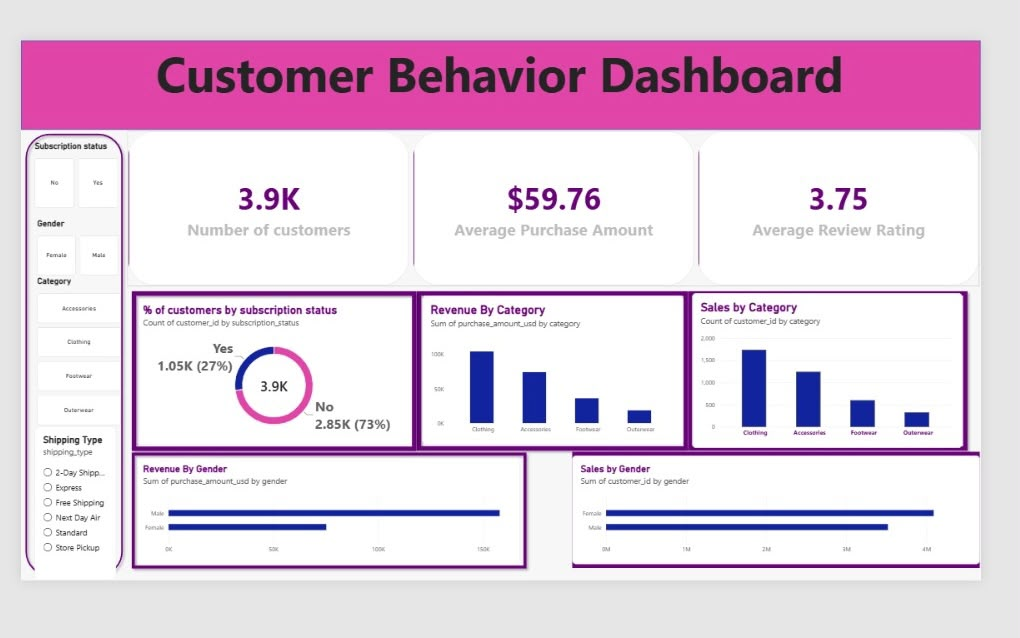

Layout of this report page (visuals, bound fields, positions):
{"tool":"powerbi","page":{"name":"Page 1","canvas":[1920,1080],"ordinal":0},"visuals":[{"type":"cardVisual","fields":{"Data":["retail_consumer_analytics shopping_data.Number of customers","retail_consumer_analytics shopping_data.Average Purchase Amount","retail_consumer_analytics shopping_data.Average Review Rating"]},"box":[212.6,179.5,1706.5,311.8],"z":0},{"type":"shape","box":[0,0,1919.1,178.6],"z":1000},{"type":"textbox","box":[1706,179,213,312],"z":2000},{"type":"textbox","box":[0,501.7,1374.8,14.2],"z":4000},{"type":"textbox","box":[269.3,0,1457,215.4],"z":5000},{"type":"donutChart","title":"% of customers by subscription status","fields":{"Category":["retail_consumer_analytics shopping_data.subscription_status"],"Y":["Count(retail_consumer_analytics shopping_data.customer_id)"]},"box":[227.5,510,557.5,297.5],"z":5002},{"type":"shape","box":[781.4,491.5,560.5,336.9],"z":5003},{"type":"shape","box":[212.5,492.5,587.5,337.5],"z":5004},{"type":"clusteredColumnChart","title":"Revenue By Category","fields":{"Category":["retail_consumer_analytics shopping_data.category"],"Y":["Sum(retail_consumer_analytics shopping_data.purchase_amount_usd)"]},"box":[802.5,510,522.5,297.5],"z":5005},{"type":"shape","box":[1325,492.5,577.1,336.9],"z":5006},{"type":"clusteredColumnChart","title":"Sales by Category","fields":{"Category":["retail_consumer_analytics shopping_data.category"],"Y":["CountNonNull(retail_consumer_analytics shopping_data.customer_id)"]},"box":[1342.5,505,540,310],"z":5007},{"type":"shape","box":[0,177.5,212.5,902.5],"z":5008},{"type":"advancedSlicerVisual","title":"Subscription status","fields":{"Values":["retail_consumer_analytics shopping_data.subscription_status"]},"box":[27.5,200,167.5,135],"z":5009},{"type":"advancedSlicerVisual","title":"Gender","fields":{"Values":["retail_consumer_analytics shopping_data.gender"]},"box":[32.5,355,162.5,115],"z":5010},{"type":"advancedSlicerVisual","title":"Category","fields":{"Values":["retail_consumer_analytics shopping_data.category"]},"box":[32.5,470,167.5,302.5],"z":5011},{"type":"listSlicer","title":"Shipping Type","fields":{"Values":["retail_consumer_analytics shopping_data.shipping_type"]},"box":[27.5,772.5,162.5,307.5],"z":5012},{"type":"clusteredBarChart","title":"Revenue By Gender","fields":{"Category":["retail_consumer_analytics shopping_data.gender"],"Y":["Sum(retail_consumer_analytics shopping_data.purchase_amount_usd)"]},"box":[227.5,830,770,217.5],"z":5013},{"type":"shape","box":[212.5,815,807.5,250],"z":5014},{"type":"shape","box":[1102.5,822.5,815,232.5],"z":5015},{"type":"clusteredBarChart","title":"Sales by Gender","fields":{"Category":["retail_consumer_analytics shopping_data.gender"],"Y":["Sum(retail_consumer_analytics shopping_data.customer_id)"]},"box":[1102.5,830,815,217.5],"z":5016}]}

Visuals, with their boxes in screenshot pixels (x1, y1, x2, y2):
cardVisual - retail_consumer_analytics shopping_data.Number of customers x retail_consumer_analytics shopping_data.Average Purchase Amount: region(126, 128, 988, 285)
shape: region(19, 37, 988, 127)
textbox: region(881, 128, 988, 285)
textbox: region(19, 291, 713, 298)
textbox: region(155, 37, 891, 146)
"% of customers by subscription status" donutChart: region(134, 295, 415, 445)
shape: region(413, 286, 697, 456)
shape: region(126, 286, 423, 457)
"Revenue By Category" clusteredColumnChart: region(424, 295, 688, 445)
shape: region(688, 286, 980, 456)
"Sales by Category" clusteredColumnChart: region(697, 292, 970, 449)
shape: region(19, 127, 126, 583)
"Subscription status" advancedSlicerVisual: region(32, 138, 117, 206)
"Gender" advancedSlicerVisual: region(35, 217, 117, 275)
"Category" advancedSlicerVisual: region(35, 275, 120, 428)
"Shipping Type" listSlicer: region(32, 428, 115, 583)
"Revenue By Gender" clusteredBarChart: region(134, 457, 523, 567)
shape: region(126, 449, 534, 575)
shape: region(576, 453, 988, 570)
"Sales by Gender" clusteredBarChart: region(576, 457, 988, 567)
